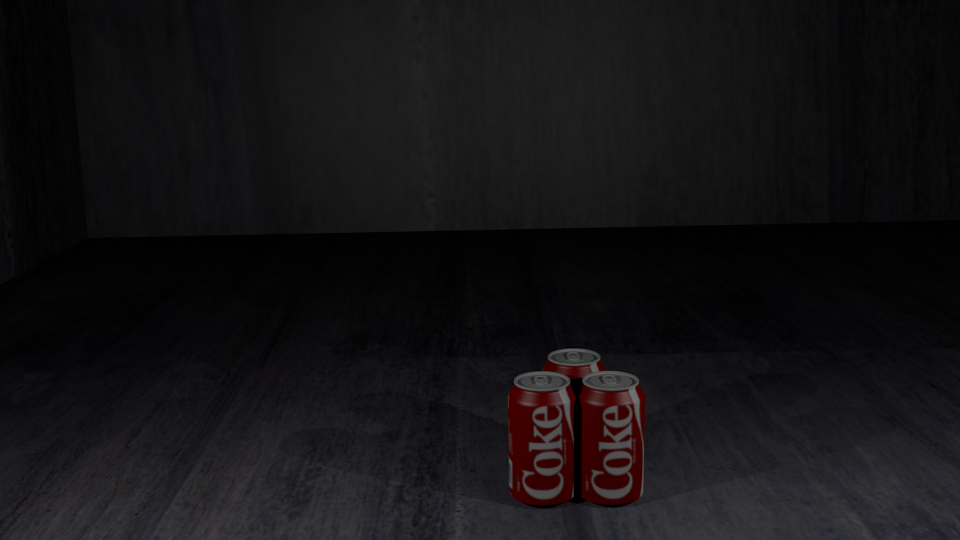cola_can: (508, 372, 575, 502), (577, 371, 644, 500), (543, 349, 605, 471)
